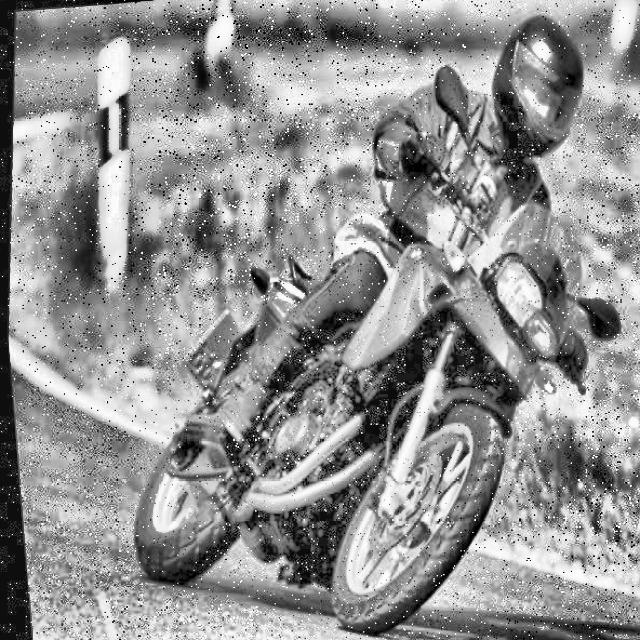Helmet: (473, 0, 599, 168)
